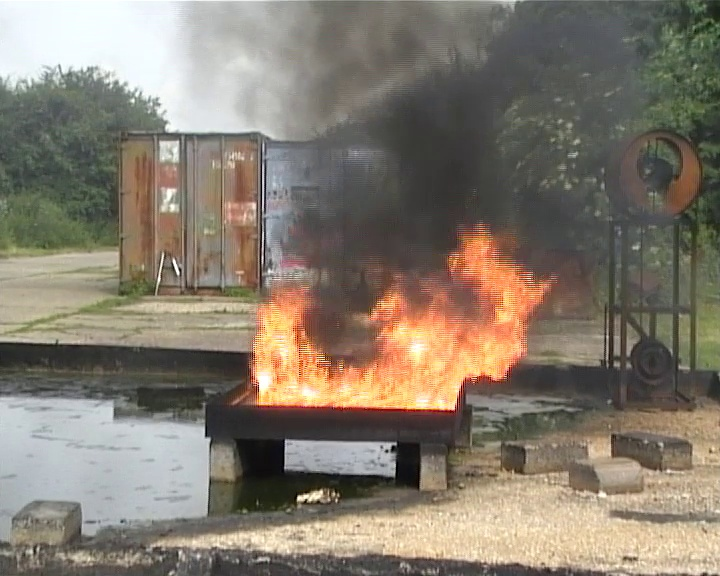fire: (250, 240, 539, 408)
